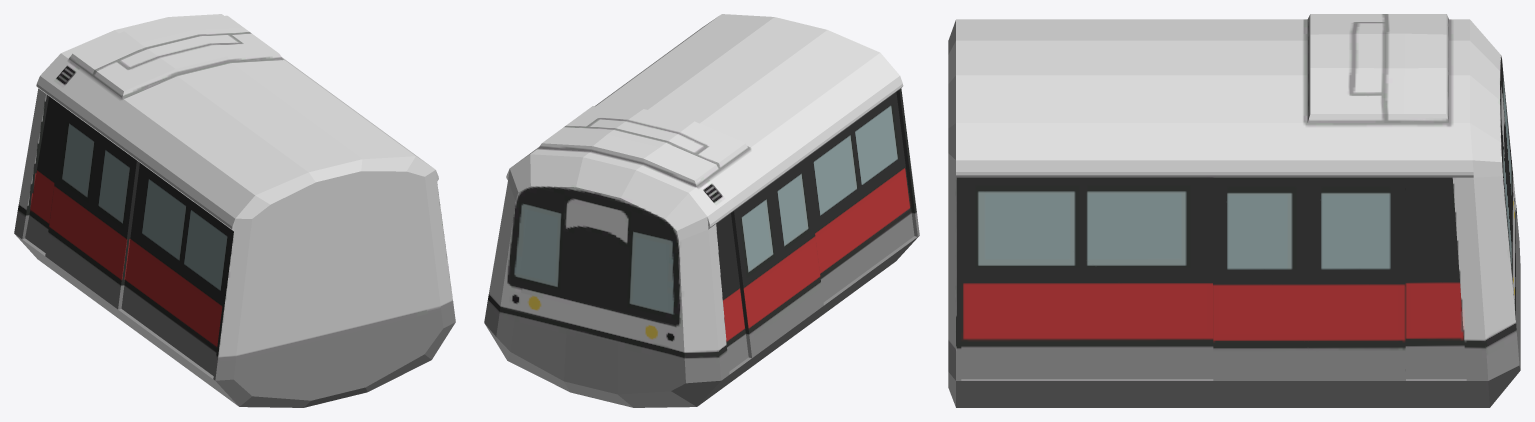
The model's file is MovingPlatformMRT.fbx.
3 views of the same model, side by side, from view 1: azimuth 30°, elevation 25°; view 2: azimuth 150°, elevation 25°; view 3: azimuth 270°, elevation 25° (orthographic). The views are drawn at different scales.
Parts seen in each view (by area): view 1: Cube.016; view 2: Cube.016; view 3: Cube.016.
Part boxes in pixels (bbox=[...]): Cube.016: bbox=[14, 14, 455, 407]; Cube.016: bbox=[484, 14, 919, 407]; Cube.016: bbox=[948, 14, 1520, 407].
Bounding box in the file's own units: 184 × 175 × 287.
